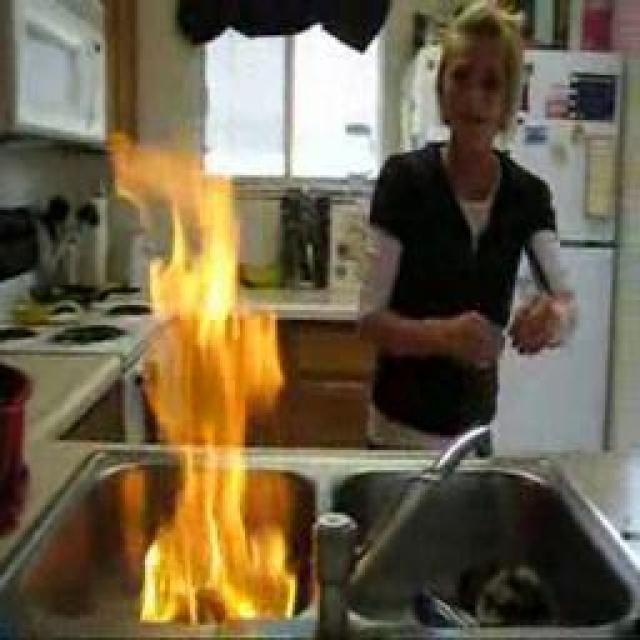Fire: (138, 258, 294, 630), (107, 134, 248, 254)
